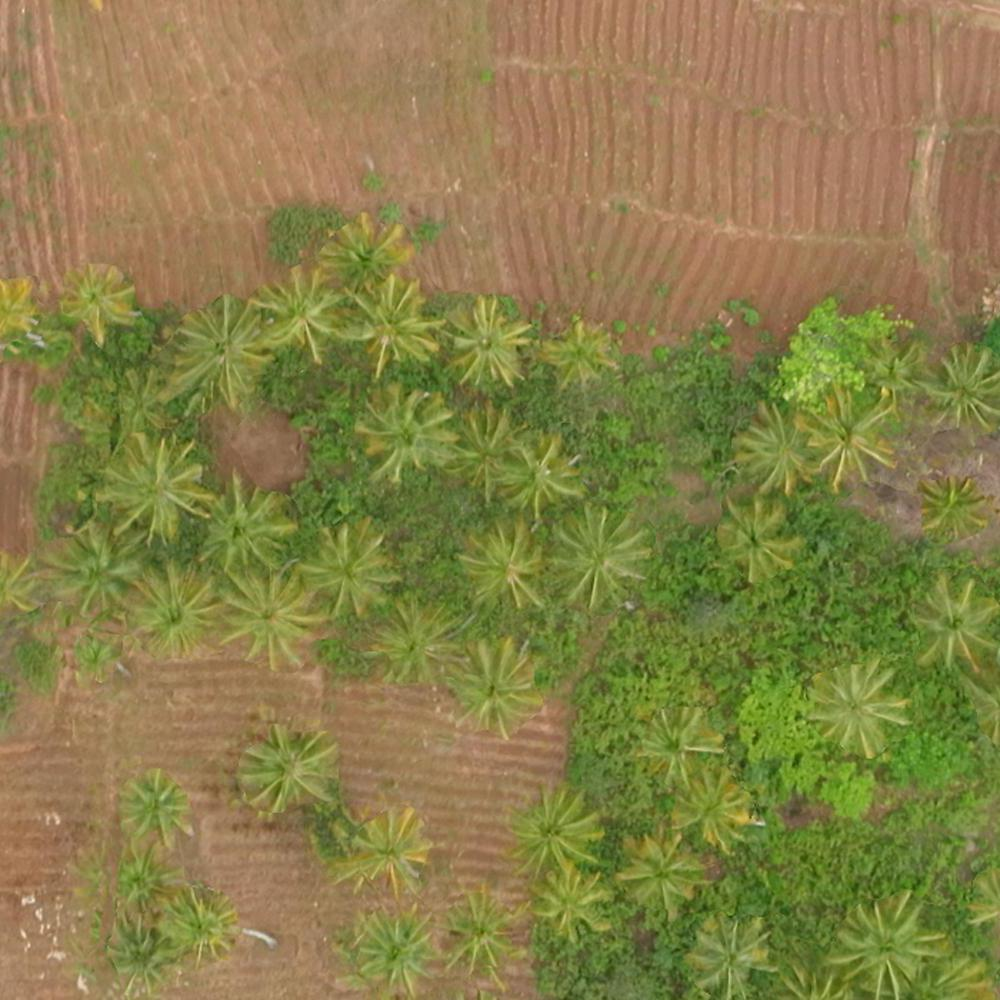Palm: (98, 436, 212, 534), (800, 385, 902, 489), (174, 297, 269, 405), (546, 509, 647, 608), (219, 560, 316, 663), (360, 384, 457, 481), (835, 899, 933, 994), (812, 662, 908, 756), (341, 278, 436, 368), (446, 393, 527, 497), (304, 521, 393, 615), (458, 516, 547, 610), (507, 788, 600, 877), (253, 266, 341, 360), (451, 638, 542, 728), (46, 530, 141, 616), (441, 886, 527, 980), (129, 564, 217, 655), (909, 578, 997, 668), (198, 476, 286, 565), (371, 599, 459, 688), (444, 293, 528, 384), (497, 429, 586, 513), (237, 727, 328, 808), (925, 343, 999, 438), (730, 401, 809, 489), (353, 908, 437, 988), (712, 497, 797, 576), (341, 809, 426, 888), (617, 831, 698, 912), (685, 914, 771, 990), (671, 767, 753, 846), (324, 213, 403, 292), (538, 317, 617, 391), (60, 265, 134, 343), (640, 707, 718, 781), (117, 769, 187, 846), (166, 883, 238, 957), (538, 868, 610, 936), (109, 918, 176, 990), (918, 473, 992, 538), (113, 843, 177, 909)
